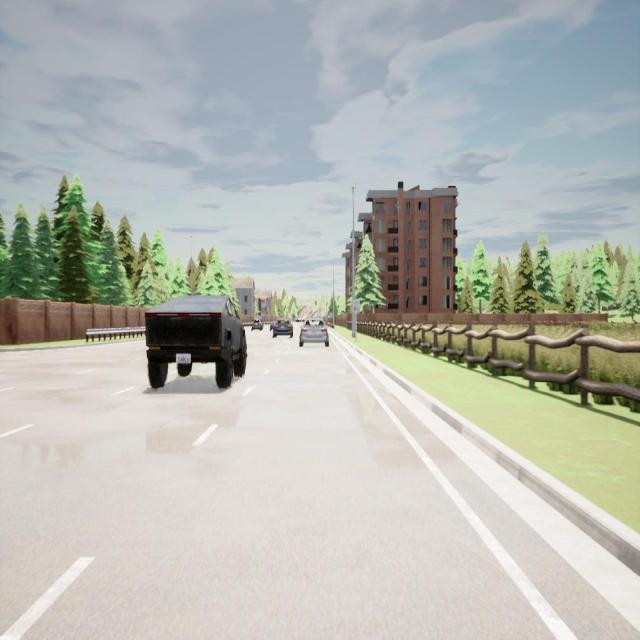Traffic_Signs: (352, 299, 360, 313)
Vehicle: (144, 296, 247, 390), (298, 318, 329, 347), (273, 318, 293, 338), (251, 318, 264, 331), (269, 320, 277, 331)
